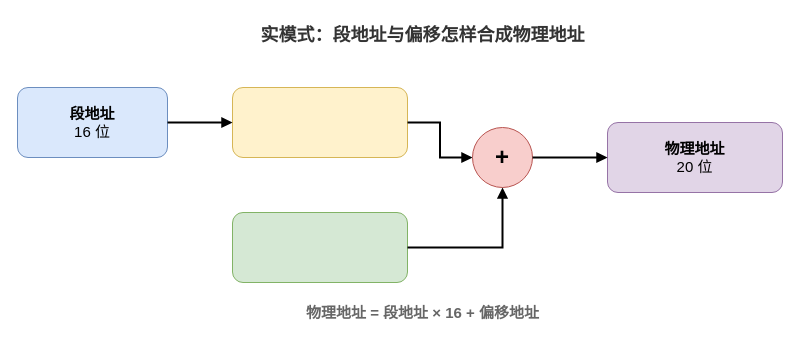
Image size: 800x344. Some labels were removed from this diagram. Here are the shapes that lost their labels. From the top down, the centre of each, then its label:
the point at 320,122: × 16 十六进制左移一位
the point at 320,247: 偏移地址 16 位
